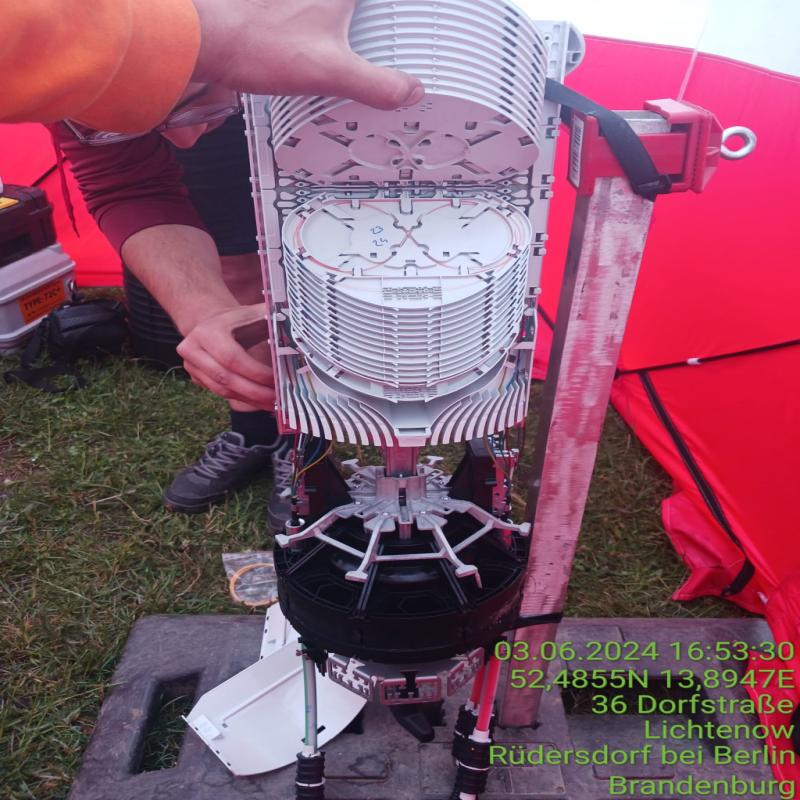NT-Muffen: (237, 1, 553, 662)
